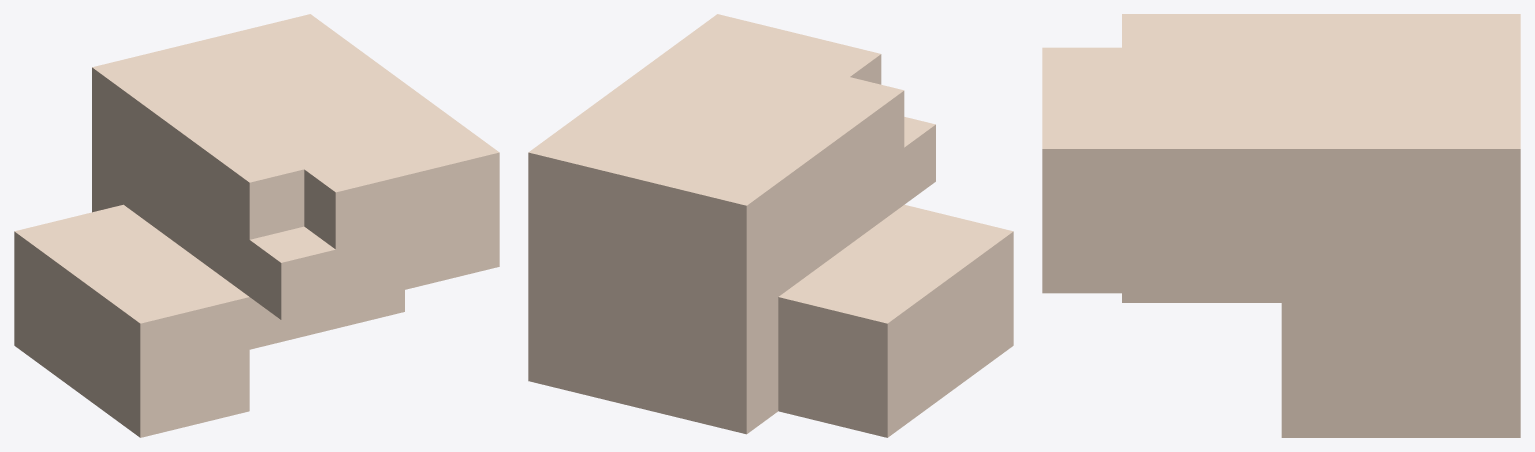
Rendered from kiritan-6-RightArm_2.obj.
3 renders of one model, left to right at view 1: azimuth 30°, elevation 25°; view 2: azimuth 150°, elevation 25°; view 3: azimuth 270°, elevation 25°, orthographic. The views are drawn at different scales.
Visible parts, largest first — view 1: RightArm_2; view 2: RightArm_2; view 3: RightArm_2.
Boxes of the visible parts, x1=… form: RightArm_2: x1=14, y1=14, x2=499, y2=437; RightArm_2: x1=528, y1=14, x2=1013, y2=437; RightArm_2: x1=1042, y1=14, x2=1520, y2=437.
Bounding box in the file's own units: 0.6 × 0.4 × 0.6.
Materials: 1 (1 with a texture image).
